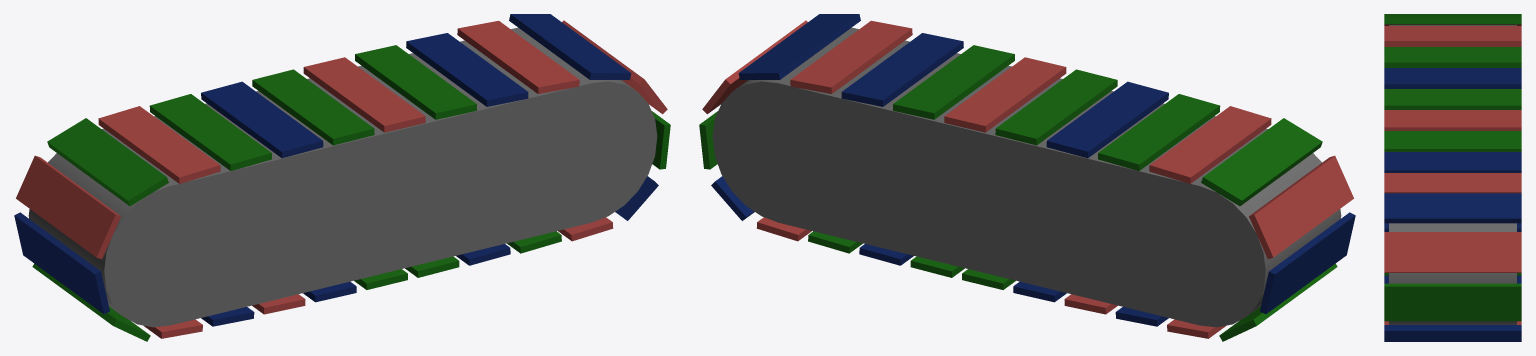
File: RobotArm.glb
3 renders of one model, left to right at view 1: azimuth 30°, elevation 25°; view 2: azimuth 150°, elevation 25°; view 3: azimuth 270°, elevation 25°, orthographic. The views are drawn at different scales.
Parts seen in each view (by area): view 1: base, blade.014, blade.015, blade.016, blade.017, blade.018, blade.019, blade.020, blade.021, blade.022, blade.023, blade.013 (+14 smaller); view 2: base, blade.014, blade.015, blade.016, blade.017, blade.018, blade.019, blade.020, blade.021, blade.022, blade.023, blade.013 (+14 smaller); view 3: blade, blade.001, blade.024, base, blade.016, blade.017, blade.018, blade.019, blade.020, blade.021, blade.022, blade.023 (+3 smaller).
Part boxes in pixels (<box>): base: <box>28,27,657,327</box>; blade.014: <box>16,155,120,259</box>; blade.015: <box>47,118,168,206</box>; blade.016: <box>98,106,220,183</box>; blade.017: <box>149,94,271,170</box>; blade.018: <box>201,81,323,158</box>; blade.019: <box>252,69,374,145</box>; blade.020: <box>303,57,425,132</box>; blade.021: <box>355,45,476,119</box>; blade.022: <box>406,33,528,106</box>; blade.023: <box>457,20,579,93</box>; blade.013: <box>14,212,109,313</box>; base: <box>712,27,1341,327</box>; blade.014: <box>1249,155,1353,259</box>; blade.015: <box>1201,118,1322,206</box>; blade.016: <box>1149,106,1271,183</box>; blade.017: <box>1098,94,1220,170</box>; blade.018: <box>1046,81,1168,158</box>; blade.019: <box>995,69,1117,145</box>; blade.020: <box>944,57,1066,132</box>; blade.021: <box>893,45,1014,119</box>; blade.022: <box>841,33,963,106</box>; blade.023: <box>790,20,912,93</box>; blade.013: <box>1260,212,1355,313</box>; blade: <box>1384,232,1521,272</box>; blade.001: <box>1384,283,1521,321</box>; blade.024: <box>1384,193,1521,223</box>; base: <box>1389,25,1516,324</box>; blade.016: <box>1384,26,1521,46</box>; blade.017: <box>1384,47,1521,67</box>; blade.018: <box>1384,68,1521,88</box>; blade.019: <box>1384,89,1521,109</box>; blade.020: <box>1384,110,1521,130</box>; blade.021: <box>1384,131,1521,151</box>; blade.022: <box>1384,152,1521,172</box>; blade.023: <box>1384,173,1521,193</box>.
Size of the model in its own units: 8.23 by 2.24 by 2.
